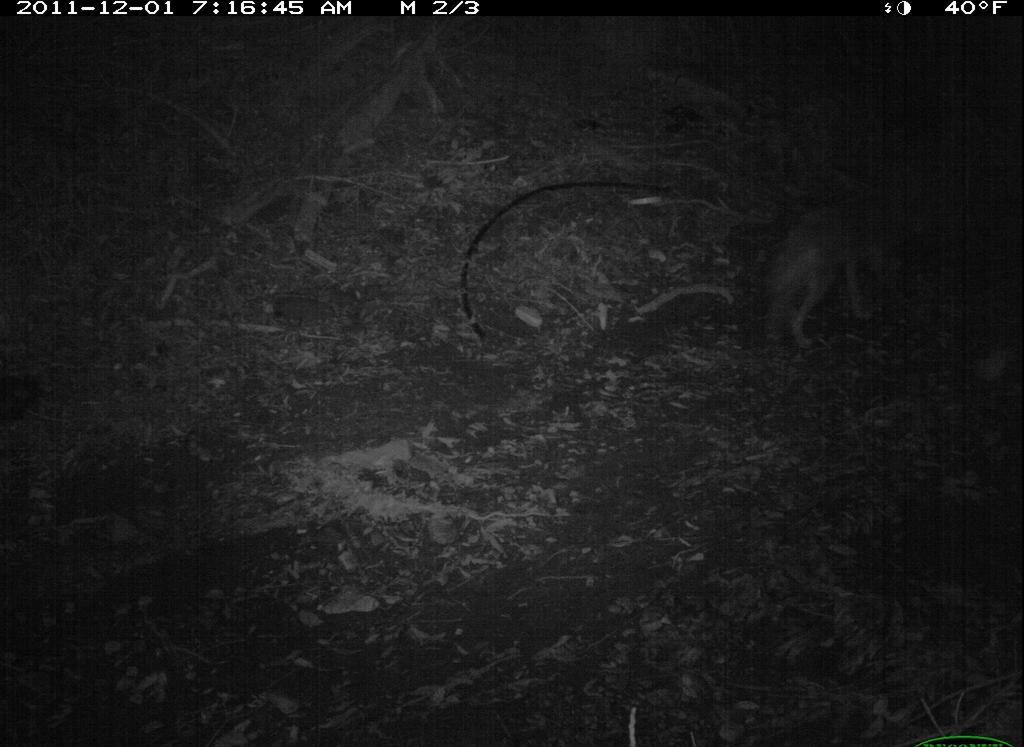coyote: (751, 171, 925, 347)
